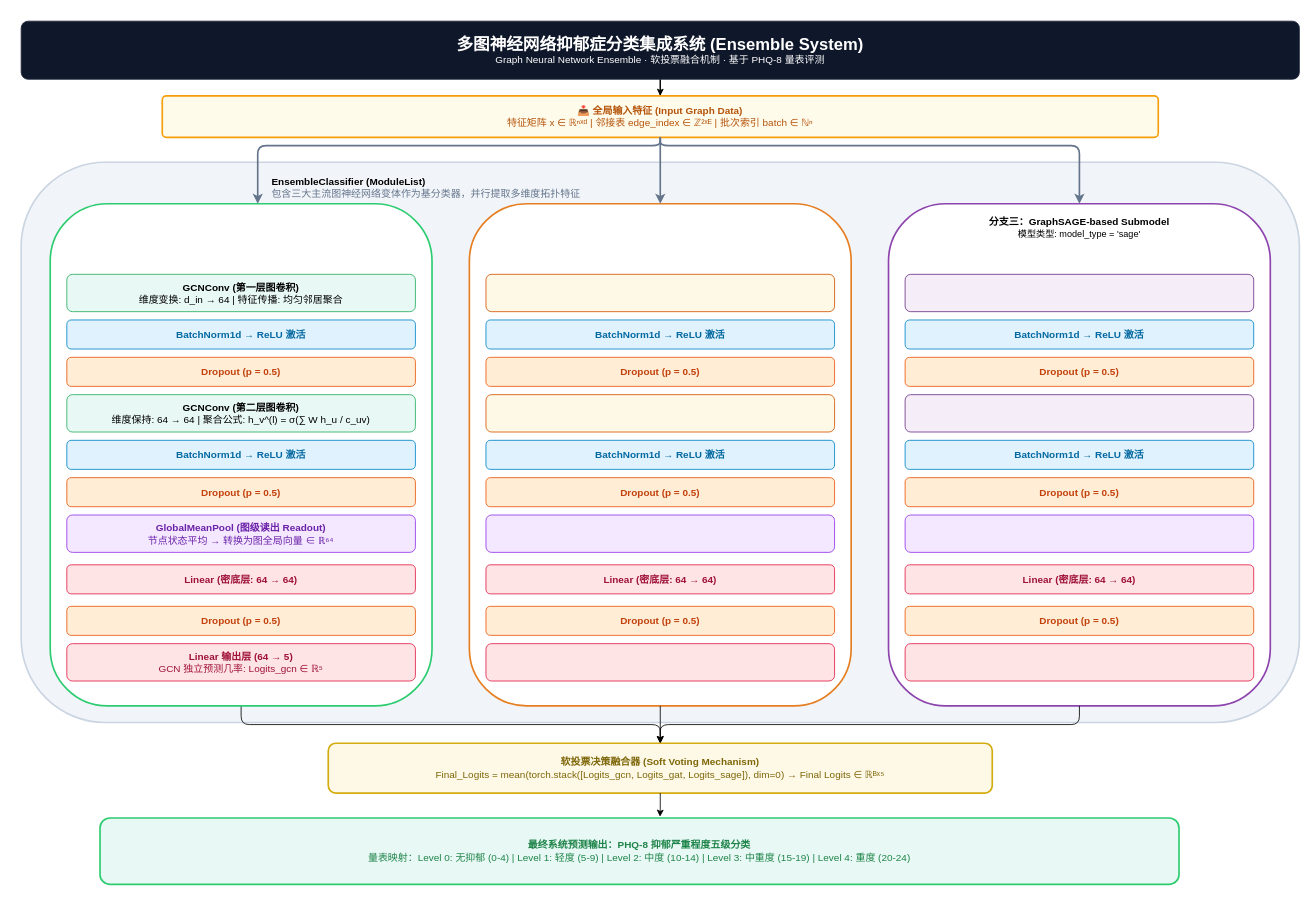
Some shapes in this 1315 by 900 pixel diagram are drawn without their labels. The shapes that lost their labels are listed below. From the top down, each one's box as (x1, y1, x2, y2) in pixels, then its label:
(485, 273, 835, 312): GATConv (第一层注意力图卷积) 配置: d_in → 64 | 多头机制: heads = 4, concat = False
(904, 273, 1254, 312): SAGEConv (第一层采样聚合卷积) 配置: d_in → 64 | 聚合算子: Mean Aggregator
(485, 394, 835, 432): GATConv (第二层注意力图卷积) α_ij = softmax(LeakyReLU(aᵀ [Wh_i || Wh_j]))
(904, 394, 1254, 432): SAGEConv (第二层采样聚合卷积) 公式: h_N(v) = mean({h_u, ∀u ∈ N(v)})
(49, 203, 432, 706): 分支一：GCN-based Submodel 模型类型: model_type = 'gcn'
(468, 203, 852, 706): 分支二：GAT-based Submodel 模型类型: model_type = 'gat'
(485, 514, 835, 552): GlobalMeanPool (图级读出 Readout) 动态注意力加权平均特征压缩 ∈ ℝ⁶⁴
(904, 514, 1254, 552): GlobalMeanPool (图级读出 Readout) 领域采样特征全局泛化融合 ∈ ℝ⁶⁴
(485, 643, 835, 681): Linear 输出层 (64 → 5) GAT 独立预测几率: Logits_gat ∈ ℝ⁵
(904, 643, 1254, 681): Linear 输出层 (64 → 5) GraphSAGE 独立预测几率: Logits_sage ∈ ℝ⁵
